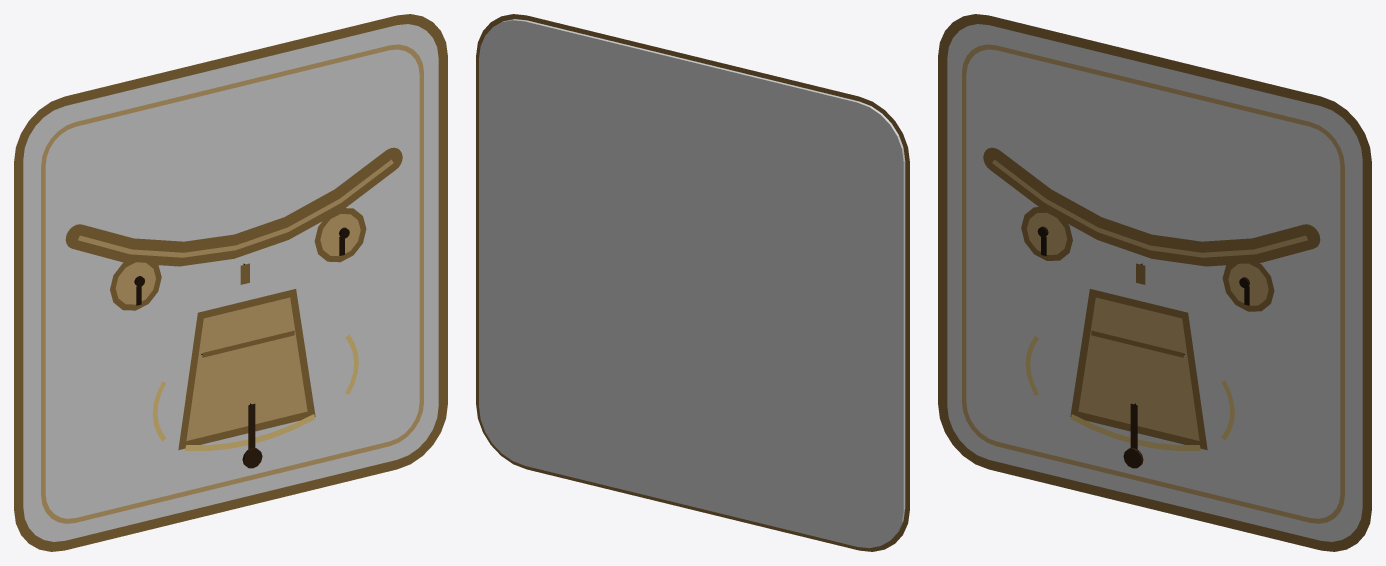
Rendered from obj-bubentsy-karavana.glb.
The picture shows the model from 3 angles, left to right: view 1: azimuth 30°, elevation 25°; view 2: azimuth 150°, elevation 25°; view 3: azimuth 330°, elevation 25°; orthographic projection.
Parts seen in each view (by area): view 1: obj-bubentsy-karavana; view 2: obj-bubentsy-karavana; view 3: obj-bubentsy-karavana.
Boxes of the visible parts, bbox=[...] form: obj-bubentsy-karavana: bbox=[14, 14, 447, 551]; obj-bubentsy-karavana: bbox=[476, 14, 909, 551]; obj-bubentsy-karavana: bbox=[938, 14, 1371, 551].
Bounding box in the file's own units: 0.3917 × 0.3917 × 0.0426.
